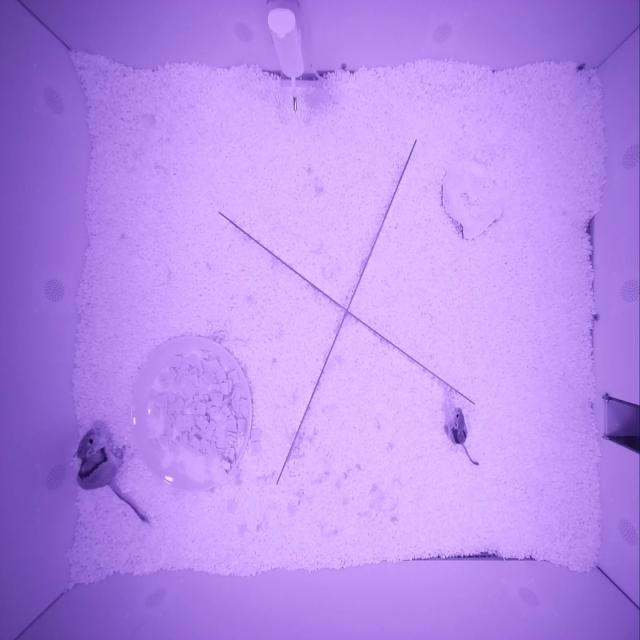adult_front: (73, 427, 122, 489)
pup_v_stripe: (448, 406, 468, 444)
